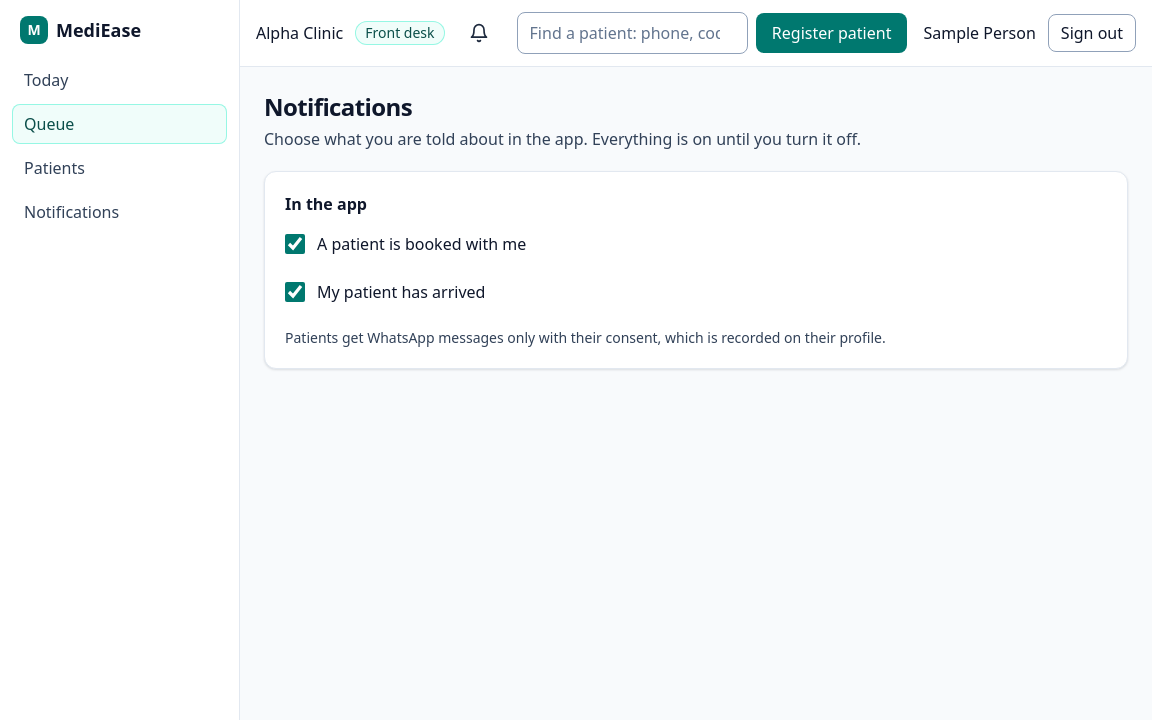
it: my notification settings (M6a-P7, FR-NTF-05) › keeps the switch as it was when saving fails
Click the checkbox labelled "A patient is booked with me": (295, 244) [285,234,305,254]
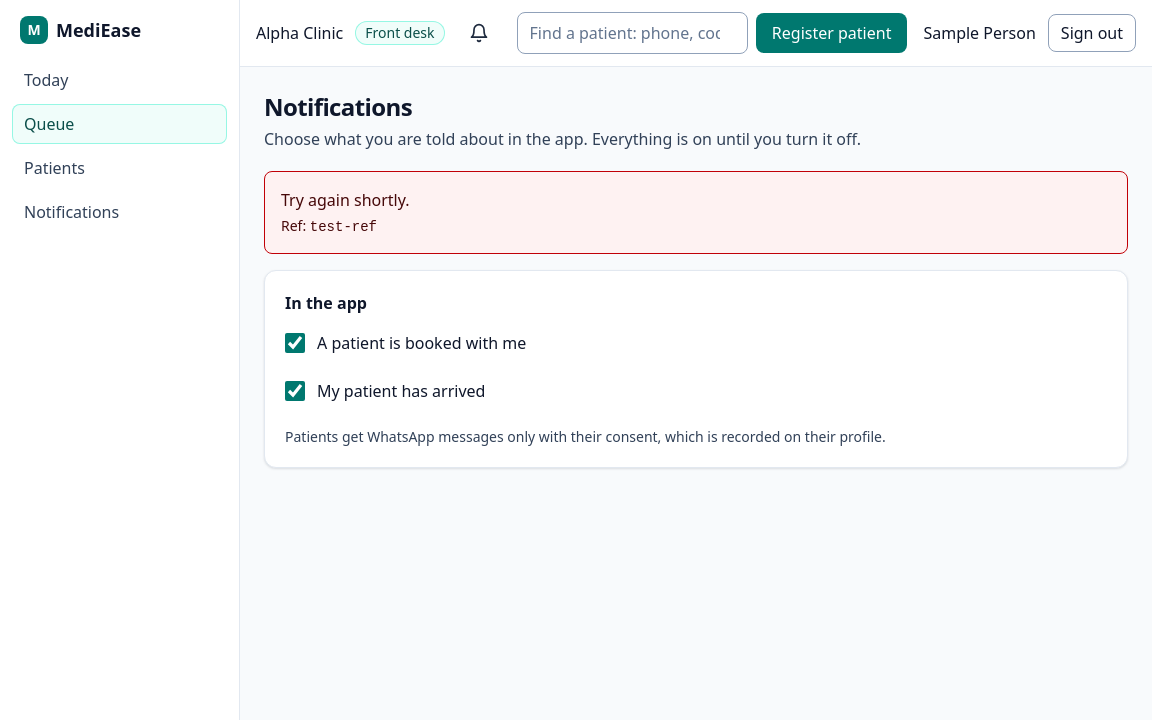
Expected: the checkbox labelled "A patient is booked with me" is checked, [285,333,305,353]
Expected: the message reads "Try again shortly. Ref: test-ref", [281,189,410,211]
